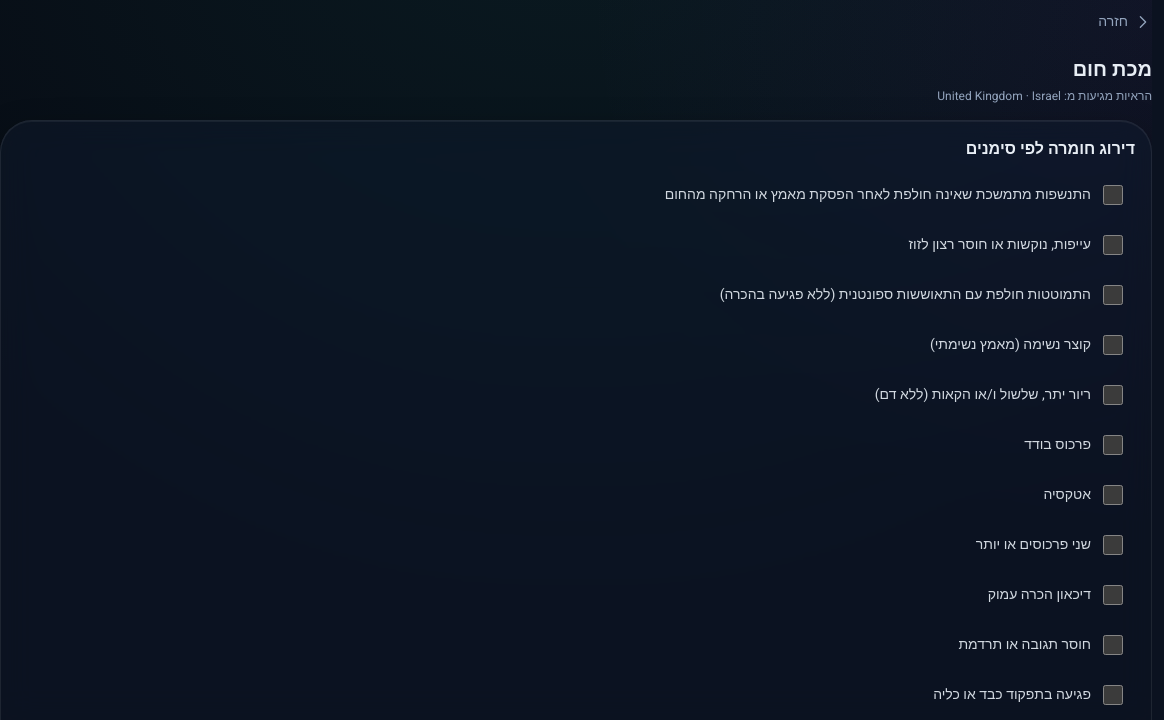
Test case: right-to-left safety › never prints a comparison symbol in Hebrew, where the browser would mirror it
Click the checkbox labelled "קוצר נשימה (מאמץ נשימתי)": click(1113, 345) [1103,335,1123,355]
(page scrolled)
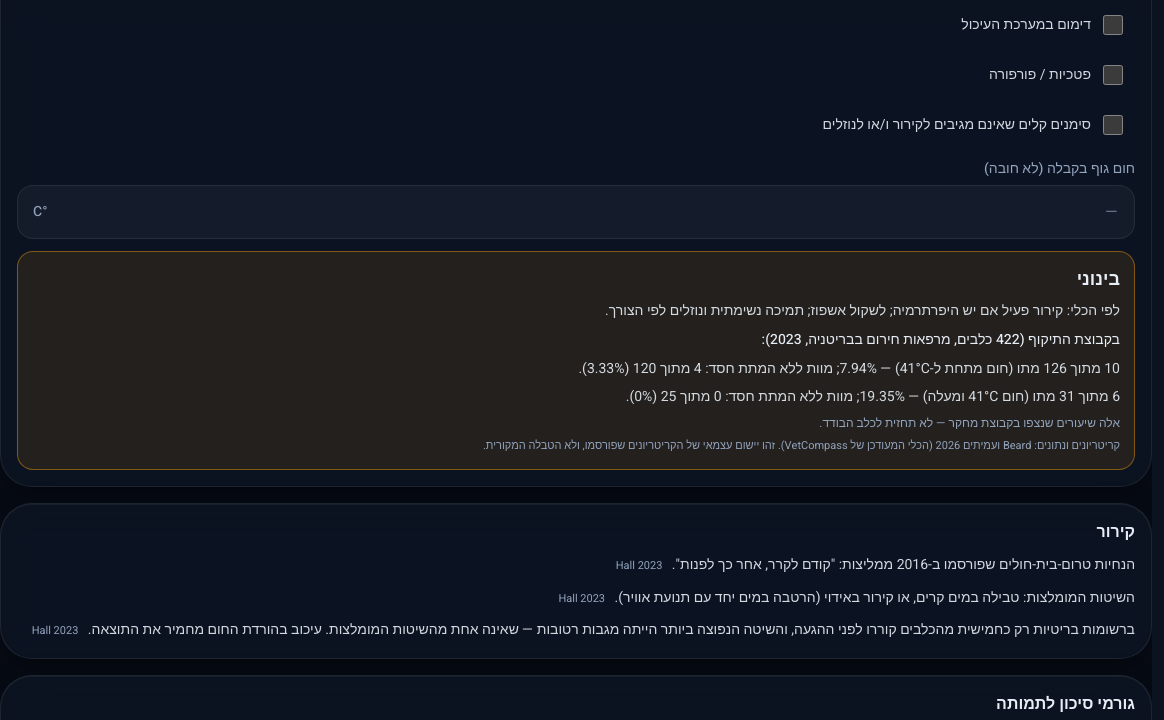
Check: the message shows "41°C ומעלה", box [626,386,1120,407]
Check: the message shows "מתחת ל-41°C", box [578,358,1120,378]
